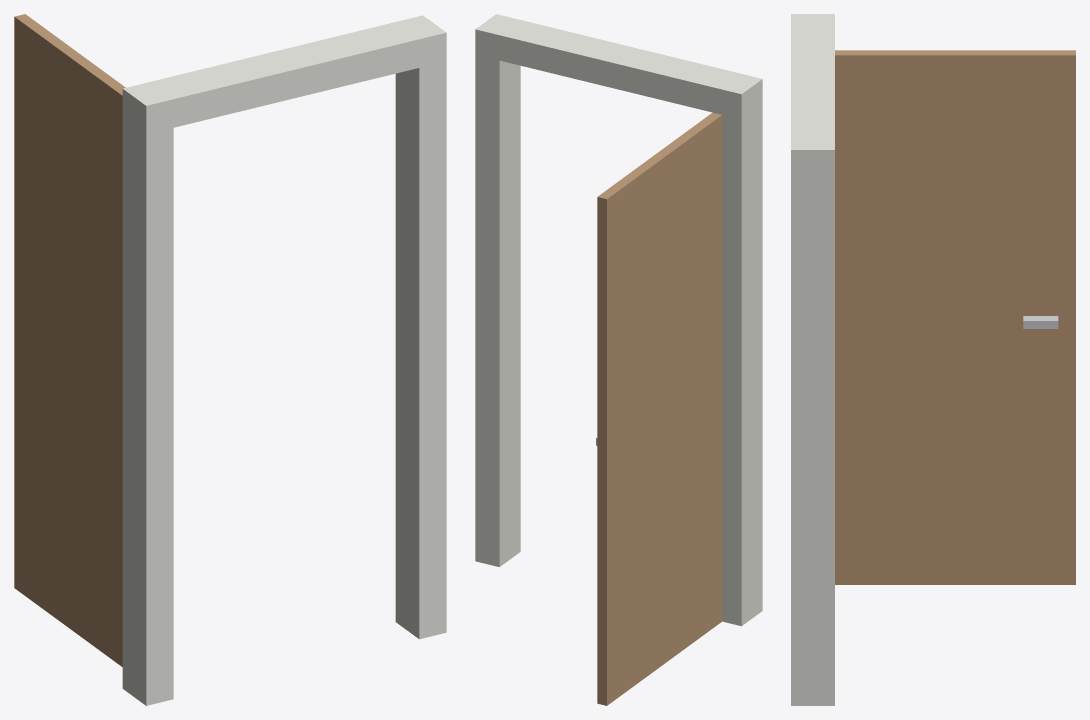
Rendered from bad_rotation_not_unit.gltf.
3 views of the same model, side by side, from view 1: azimuth 30°, elevation 25°; view 2: azimuth 150°, elevation 25°; view 3: azimuth 270°, elevation 25° (orthographic). The views are drawn at different scales.
Parts seen in each view (by area): view 1: DoorFrame, DoorPanel; view 2: DoorPanel, DoorFrame; view 3: DoorPanel, DoorFrame, DoorHandle.
Boxes of the visible parts, left/top/right/bottom form: DoorFrame: left=122, top=15, right=446, bottom=705; DoorPanel: left=14, top=14, right=125, bottom=666; DoorPanel: left=597, top=112, right=722, bottom=705; DoorFrame: left=475, top=14, right=762, bottom=626; DoorPanel: left=835, top=50, right=1075, bottom=584; DoorFrame: left=791, top=14, right=834, bottom=705; DoorHandle: left=1023, top=316, right=1058, bottom=328.
Bounding box in the file's own units: 1.1 × 2.1 × 0.975.
